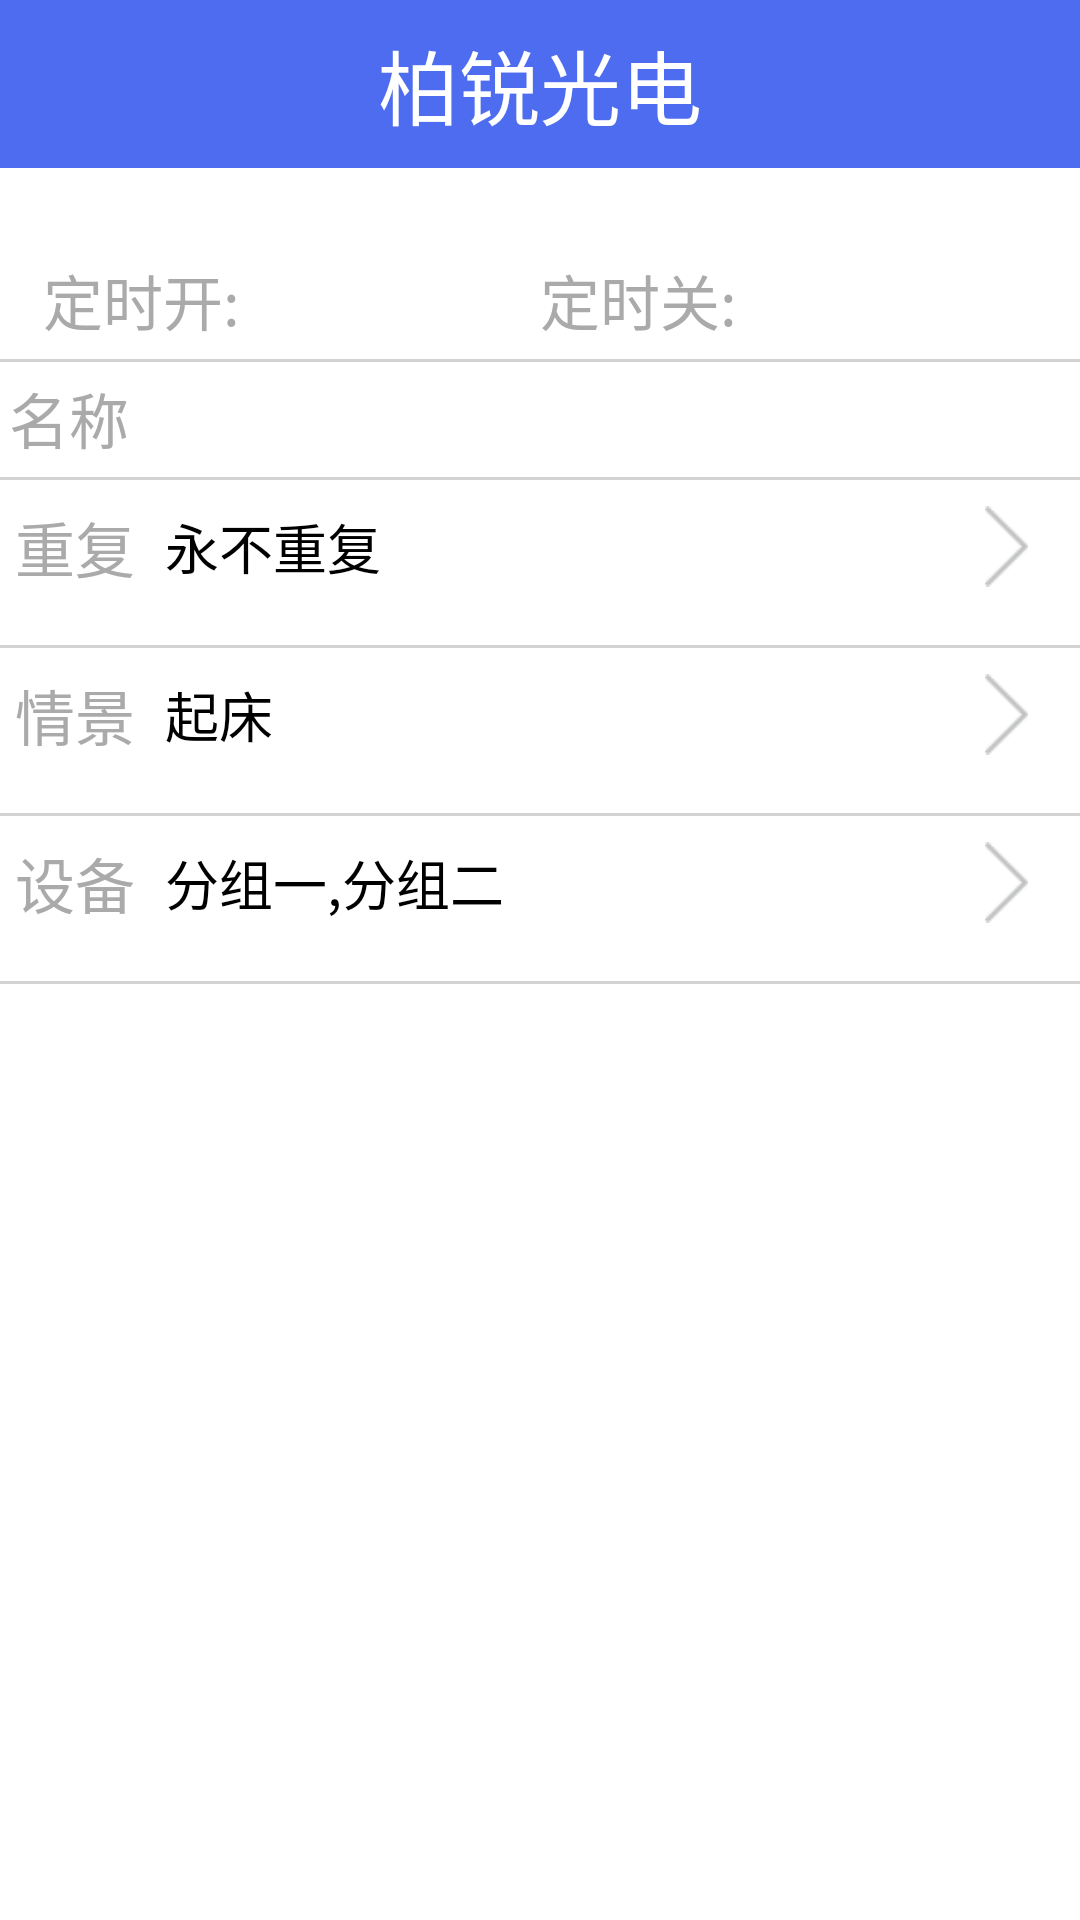

Screen size 1080 x 1920. Icon name, then its center in pixels as [x,y]:
next: [1006,546], [1006,714], [1006,882]
